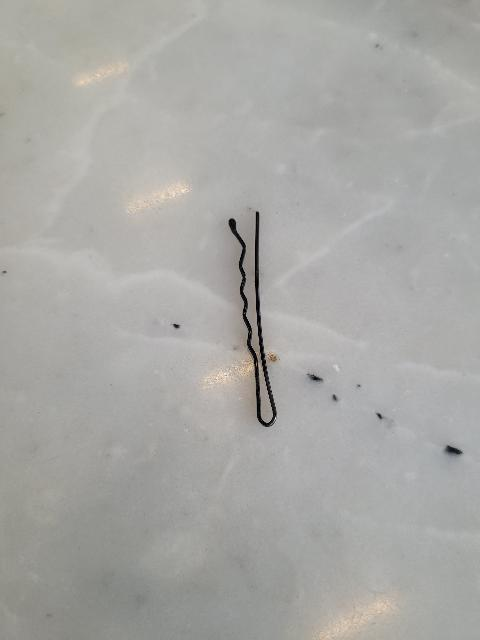Metal: (225, 205, 290, 430)
